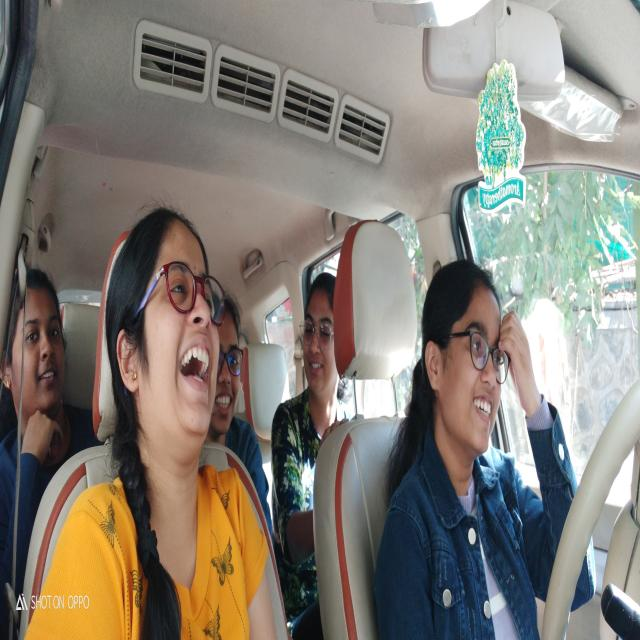person: (105, 211, 224, 470), (420, 256, 510, 473), (6, 268, 67, 431), (213, 275, 247, 443), (298, 268, 339, 401)
